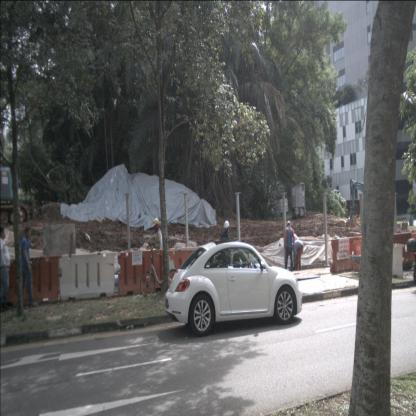barrier: (58, 250, 116, 301), (0, 258, 59, 304), (118, 252, 166, 296), (165, 250, 213, 293), (330, 236, 364, 274), (384, 232, 414, 270), (352, 240, 380, 273), (379, 244, 404, 280), (394, 232, 416, 263)
